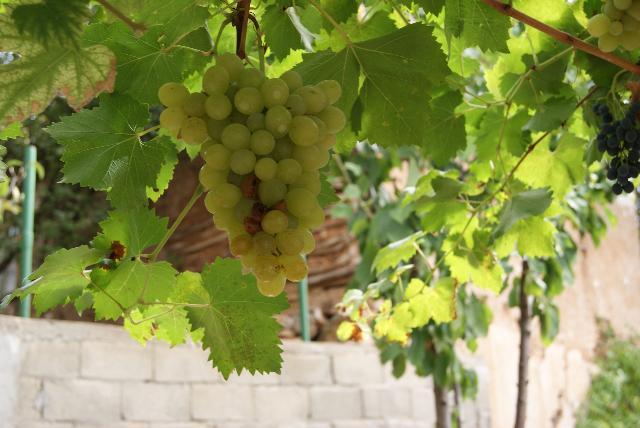grapes: (158, 52, 346, 296)
